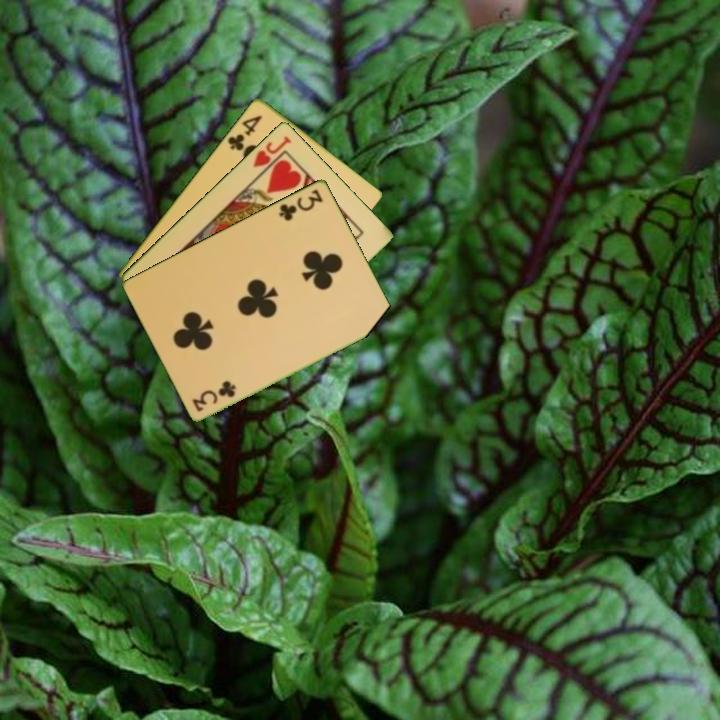3c: (275, 185, 326, 223), (189, 378, 239, 414)
4c: (224, 111, 265, 153)
Jh: (249, 132, 294, 170)
